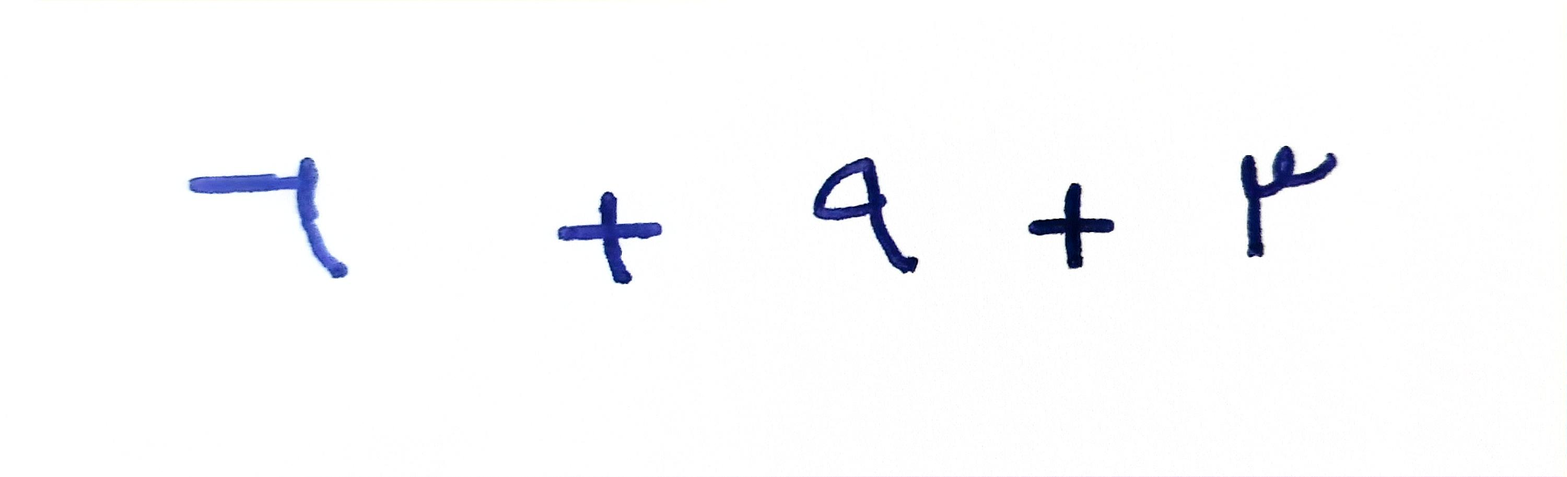character: (189, 156, 347, 280), (814, 157, 919, 273), (1239, 142, 1339, 256), (556, 193, 663, 285), (1025, 181, 1117, 270)
